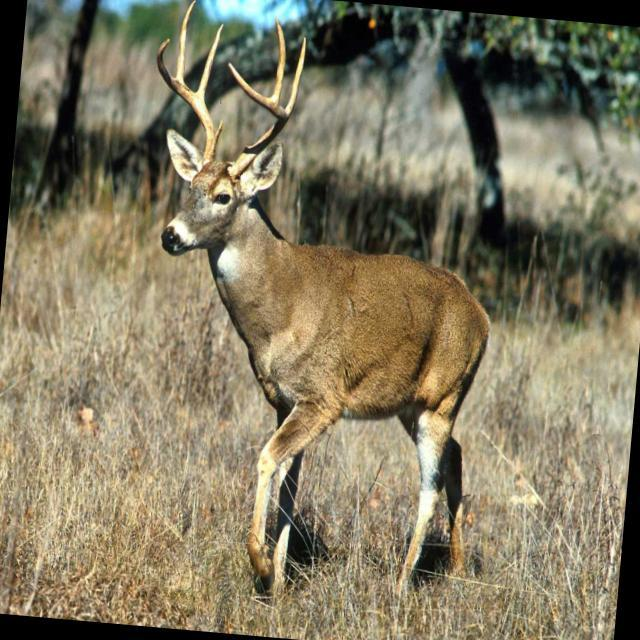L-F: (226, 61, 287, 183)
L-G1: (284, 36, 306, 118)
L-G2: (270, 16, 286, 104)
R-F: (156, 37, 216, 167)
R-G1: (213, 118, 223, 142)
R-G2: (196, 22, 223, 97)
R-G3: (175, 0, 196, 82)
